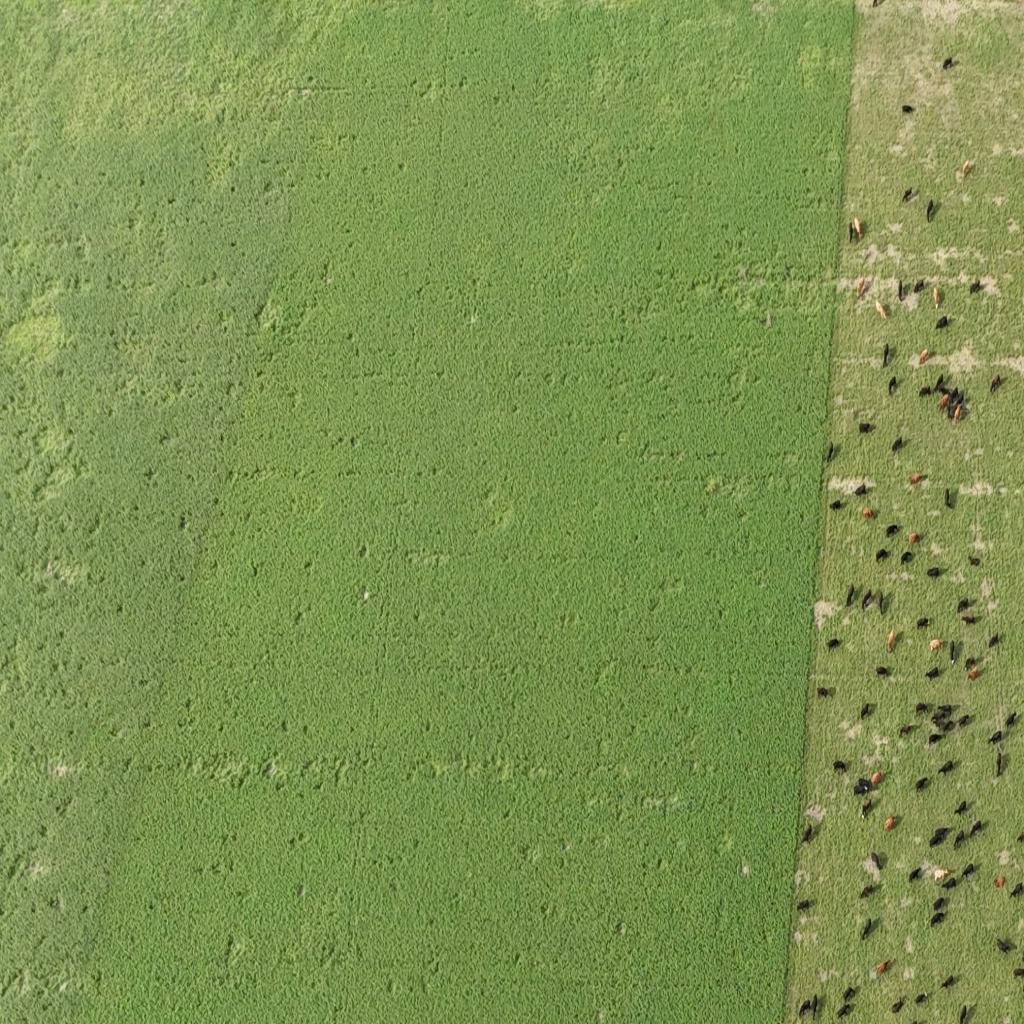cow: (996, 937, 1016, 953), (871, 851, 885, 872), (930, 909, 946, 927), (940, 974, 958, 990), (802, 822, 815, 844), (938, 758, 955, 774), (836, 1002, 851, 1020), (842, 985, 857, 1003), (860, 799, 872, 821), (798, 999, 811, 1019), (969, 820, 983, 838), (1010, 882, 1024, 900), (953, 830, 966, 849), (990, 374, 1002, 394), (934, 867, 949, 883), (845, 583, 855, 607), (915, 776, 930, 792), (942, 875, 958, 890), (892, 997, 906, 1014), (954, 799, 968, 816), (962, 863, 976, 880), (870, 770, 884, 786), (833, 758, 847, 774), (988, 730, 1002, 746), (860, 882, 874, 898), (909, 866, 923, 882), (862, 917, 872, 939), (861, 702, 873, 720), (797, 898, 812, 912), (925, 666, 940, 680), (957, 714, 972, 728), (877, 959, 890, 975), (928, 732, 944, 745), (915, 702, 931, 715), (964, 658, 977, 674), (876, 300, 886, 320), (853, 217, 862, 239), (862, 592, 873, 610), (961, 614, 979, 625), (900, 551, 914, 565), (941, 719, 955, 733), (933, 898, 946, 913), (969, 278, 981, 294), (927, 566, 943, 578), (938, 702, 954, 714), (888, 377, 898, 396), (940, 393, 950, 412), (935, 315, 948, 329), (811, 993, 818, 1019), (817, 686, 832, 698), (876, 549, 888, 564), (959, 1004, 968, 1024), (1006, 711, 1016, 729), (934, 374, 944, 392), (955, 390, 965, 408), (856, 274, 864, 296), (926, 200, 934, 222), (882, 343, 889, 368), (892, 437, 902, 454), (886, 524, 899, 537), (931, 710, 944, 723), (859, 422, 873, 434), (908, 532, 920, 546), (930, 638, 942, 652), (902, 188, 914, 202), (988, 634, 1000, 648), (958, 598, 970, 612), (914, 992, 928, 1004), (858, 776, 870, 790), (968, 666, 979, 681), (997, 749, 1003, 776), (888, 628, 895, 651), (826, 442, 834, 462), (914, 278, 924, 294), (862, 507, 874, 520), (854, 484, 867, 496), (993, 876, 1006, 888), (919, 386, 932, 398), (942, 57, 954, 70), (827, 638, 840, 650), (884, 816, 895, 830), (899, 724, 913, 735), (954, 404, 962, 423), (919, 349, 929, 364), (875, 666, 890, 676), (879, 592, 885, 617), (935, 827, 950, 837), (917, 617, 929, 629), (929, 836, 942, 847), (944, 488, 951, 508), (854, 786, 868, 796), (949, 639, 955, 662), (910, 472, 921, 484), (933, 286, 939, 308), (968, 555, 980, 566), (932, 718, 944, 729), (830, 500, 843, 510), (902, 104, 915, 114), (962, 160, 970, 176), (950, 385, 957, 403), (898, 279, 903, 301), (1016, 966, 1024, 979), (849, 222, 854, 242), (1019, 832, 1024, 844), (872, 0, 878, 7)
